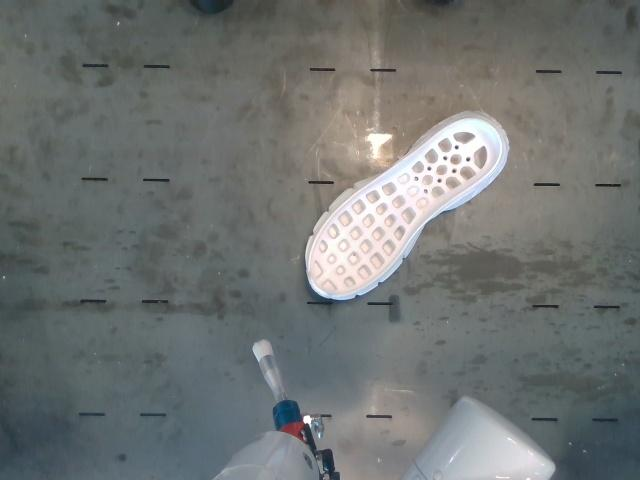shoes: (309, 119, 501, 295)
